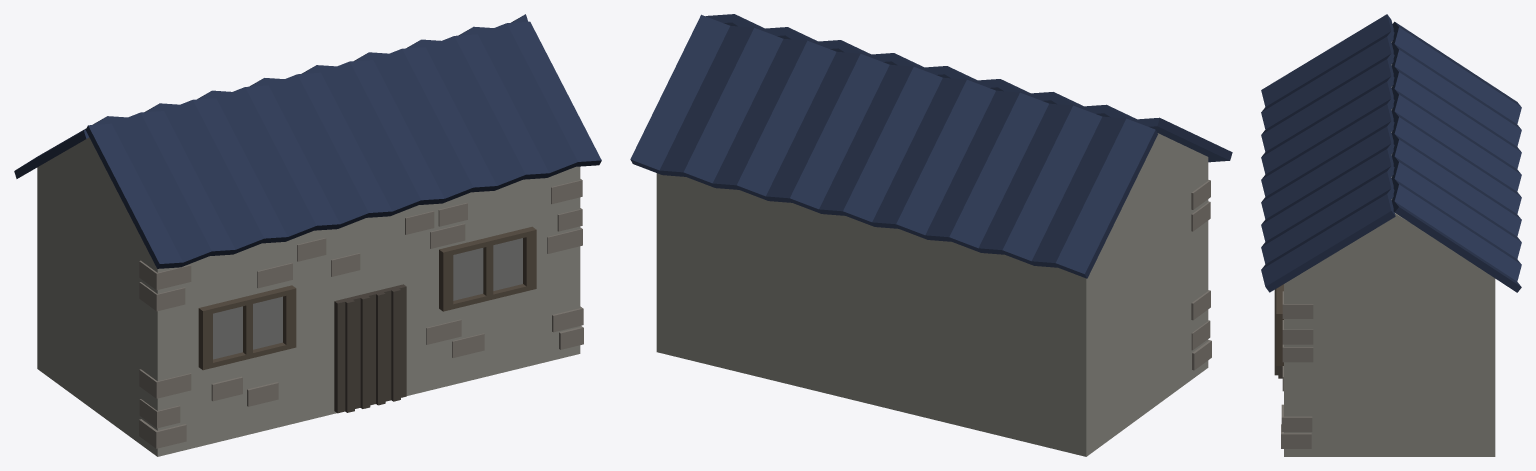
Rendered from WIDE HOUSE BLUE ROOF.fbx.
3 renders of one model, left to right at view 1: azimuth 30°, elevation 25°; view 2: azimuth 150°, elevation 25°; view 3: azimuth 270°, elevation 25°, orthographic. The views are drawn at different scales.
Visible parts, largest first — view 1: pCube1, pCube2, pCube4, pCube5, pCube6, pCube3, pCube9, pCube10, pCube7, pCube11, pCube8, pCube14 (+7 smaller); view 2: pCube1, pCube3, pCube2; view 3: pCube1, pCube2, pCube3, pCube6, pCube12, pCube15, pCube14, pCube13, pCube16, pCube4.
Boxes of the visible parts, bbox=[...] form: pCube1: bbox=[37, 137, 580, 456]; pCube2: bbox=[86, 21, 601, 268]; pCube4: bbox=[334, 284, 406, 413]; pCube5: bbox=[198, 285, 296, 370]; pCube6: bbox=[439, 226, 536, 311]; pCube3: bbox=[14, 14, 527, 178]; pCube9: bbox=[139, 369, 191, 398]; pCube10: bbox=[139, 260, 191, 290]; pCube7: bbox=[139, 419, 186, 448]; pCube11: bbox=[139, 282, 185, 311]; pCube8: bbox=[139, 399, 180, 428]; pCube14: bbox=[547, 227, 582, 253]; pCube1: bbox=[656, 133, 1208, 456]; pCube3: bbox=[630, 14, 1157, 278]; pCube2: bbox=[706, 14, 1232, 162]; pCube1: bbox=[1284, 41, 1495, 456]; pCube2: bbox=[1261, 14, 1395, 292]; pCube3: bbox=[1391, 21, 1521, 292]; pCube6: bbox=[1276, 284, 1283, 365]; pCube12: bbox=[1281, 404, 1312, 431]; pCube15: bbox=[1282, 320, 1313, 344]; pCube14: bbox=[1282, 344, 1313, 362]; pCube13: bbox=[1281, 424, 1311, 448]; pCube16: bbox=[1282, 291, 1313, 318]; pCube4: bbox=[1274, 289, 1282, 378].
Bounding box in the file's own units: 0.1475 × 0.0924 × 0.0851.
